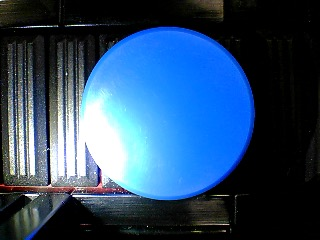BLANK: (80, 26, 256, 200)
